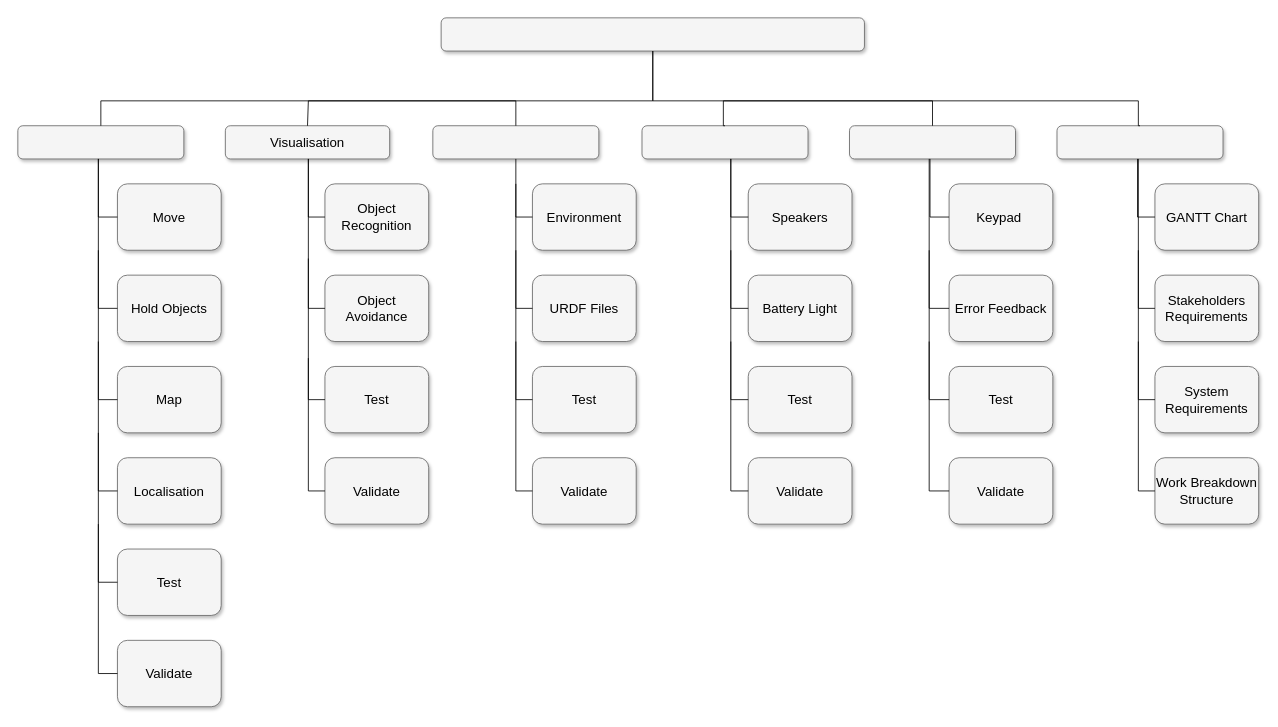
Image size: 1278x727. Some labels were removed from this diagram. The shapes that lost their labels are listed below. From the top down, each one's centre as x and y in pixels, then its label:
At (653,35): "Room Service Robot".
At (101,143): "Complete Task".
At (516,143): "Simulate Environment".
At (725,143): "Interaction Capabilities".
At (932,143): "Subsystem Integration".
At (1140,143): "Project Management".
